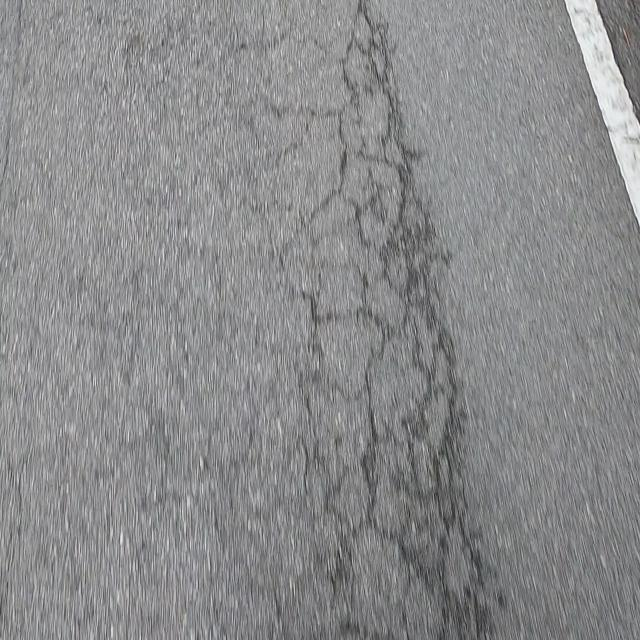Retak-Buaya: (273, 3, 484, 638)
